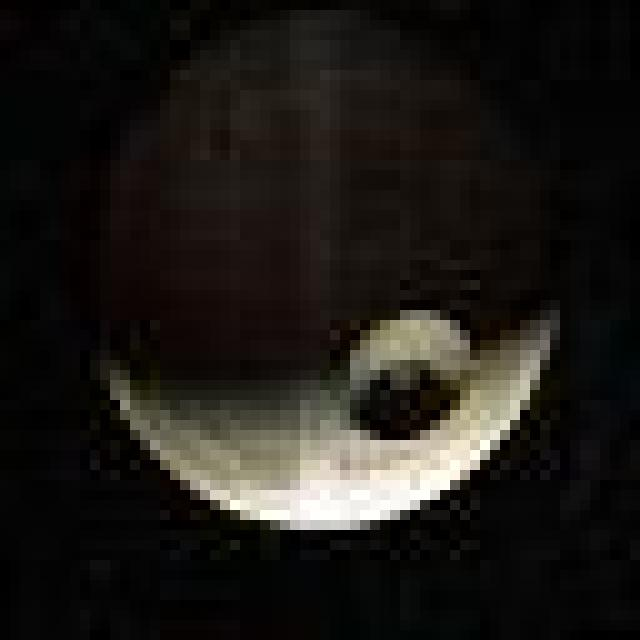Death Star: (110, 17, 561, 528)
